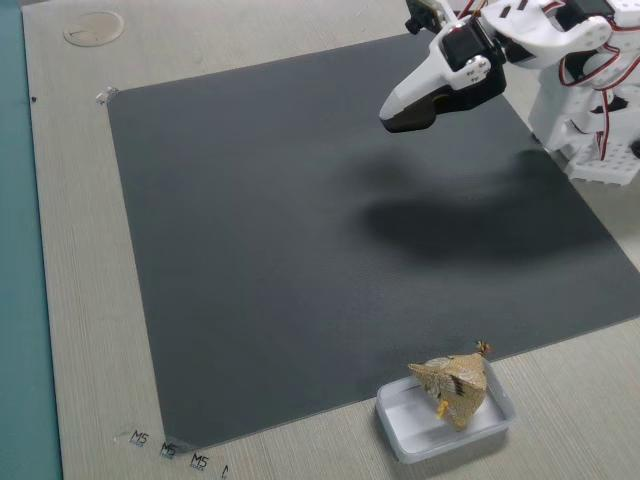objects: (381, 0, 502, 135)
